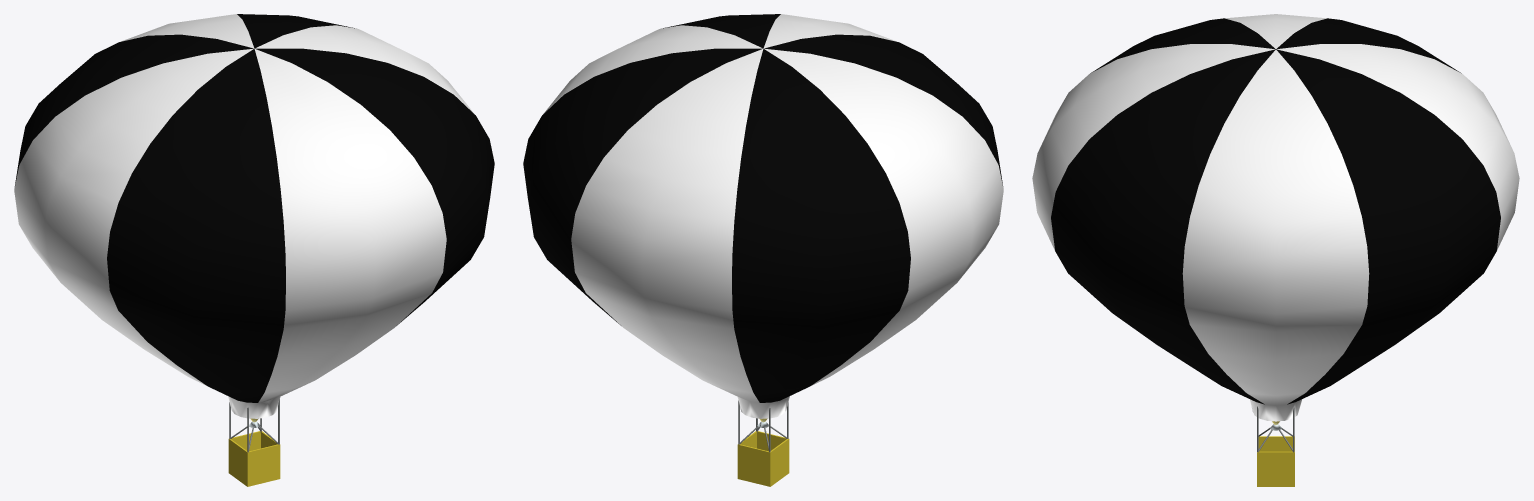
Rendered from balloon_balloon2.glb.
The picture shows the model from 3 angles, left to right: view 1: azimuth 30°, elevation 25°; view 2: azimuth 150°, elevation 25°; view 3: azimuth 270°, elevation 25°; orthographic projection.
Parts seen in each view (by area): view 1: airframe; view 2: airframe; view 3: airframe.
Part boxes in pixels (<box>): airframe: <box>14,14,494,486</box>; airframe: <box>523,14,1003,486</box>; airframe: <box>1032,14,1519,486</box>.
Bounding box in the file's own units: 58.75 × 57.15 × 58.75.
